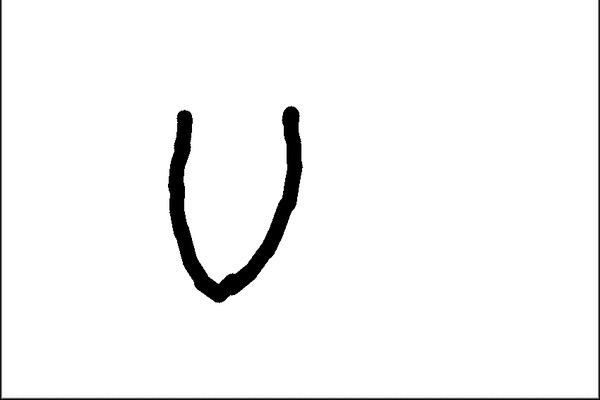U: (147, 95, 311, 306)
